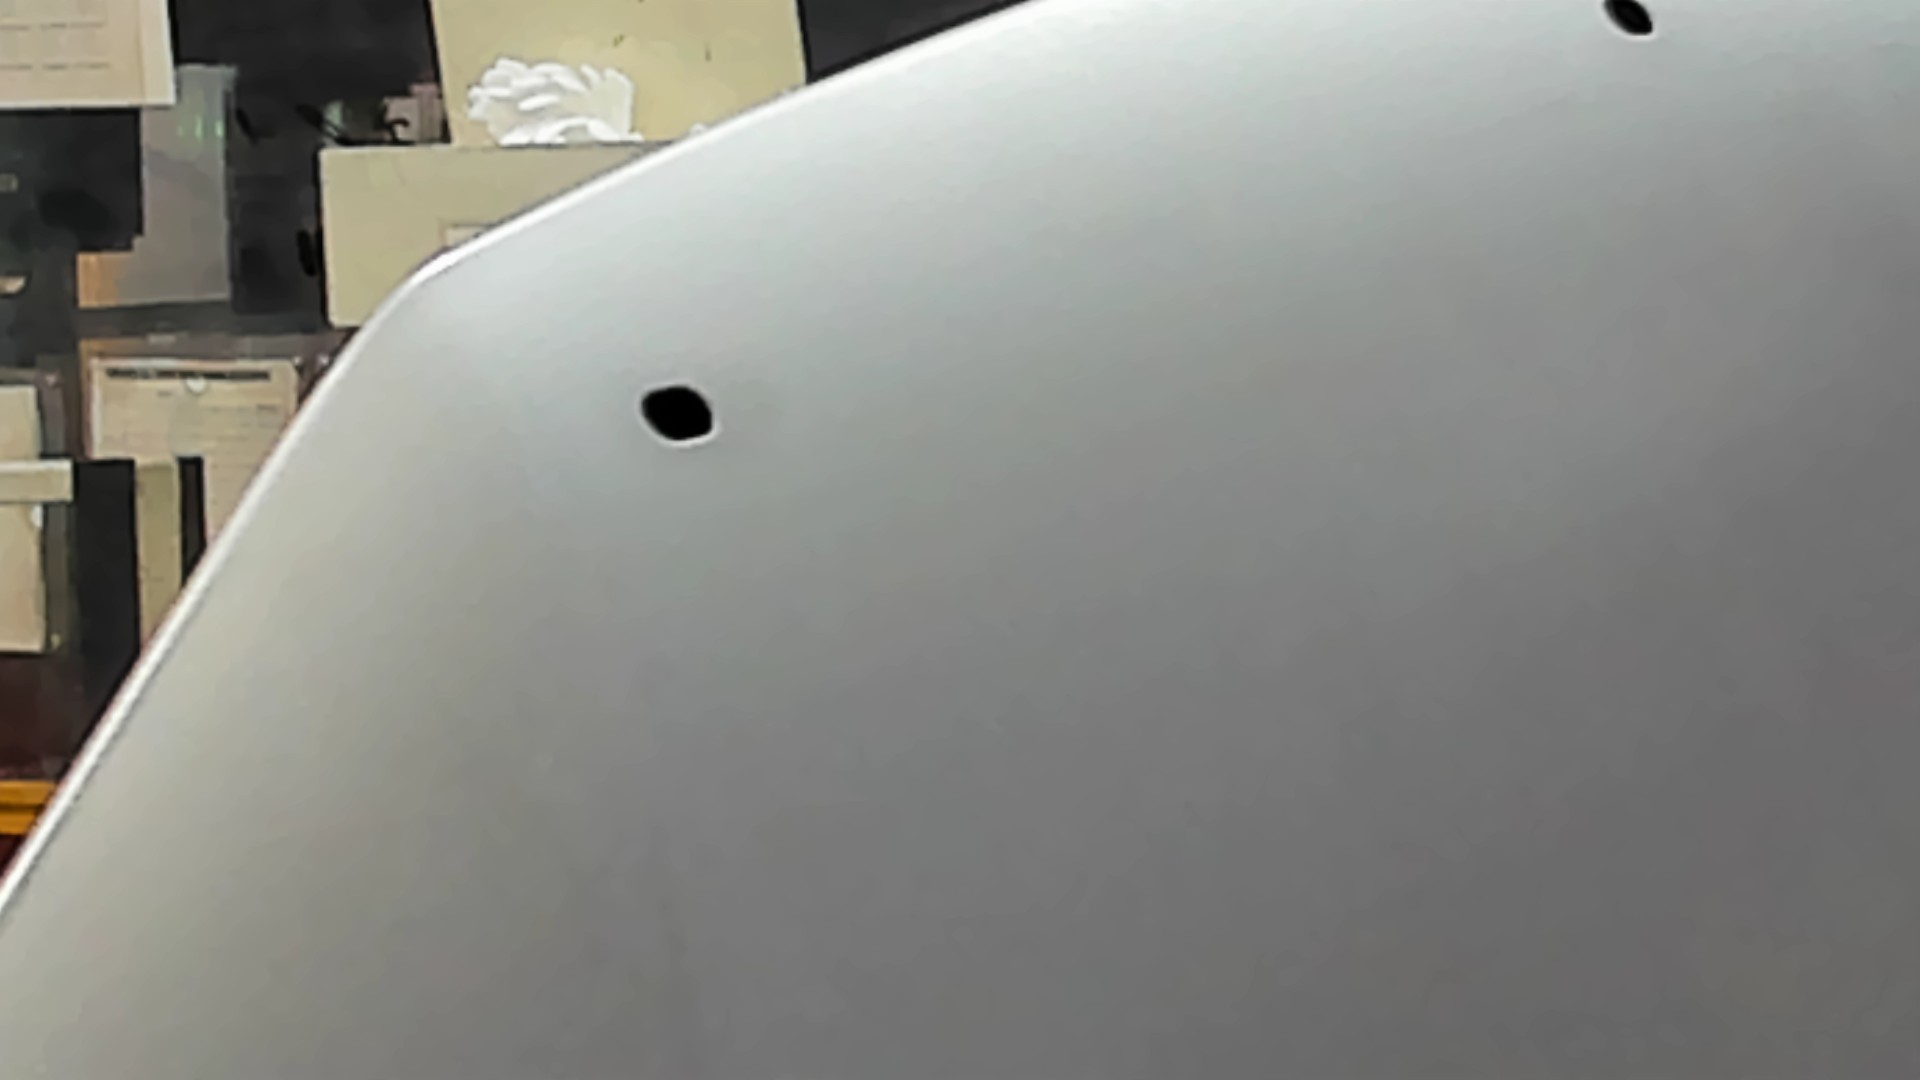Agujero: (633, 378, 723, 451), (1594, 1, 1662, 45)
